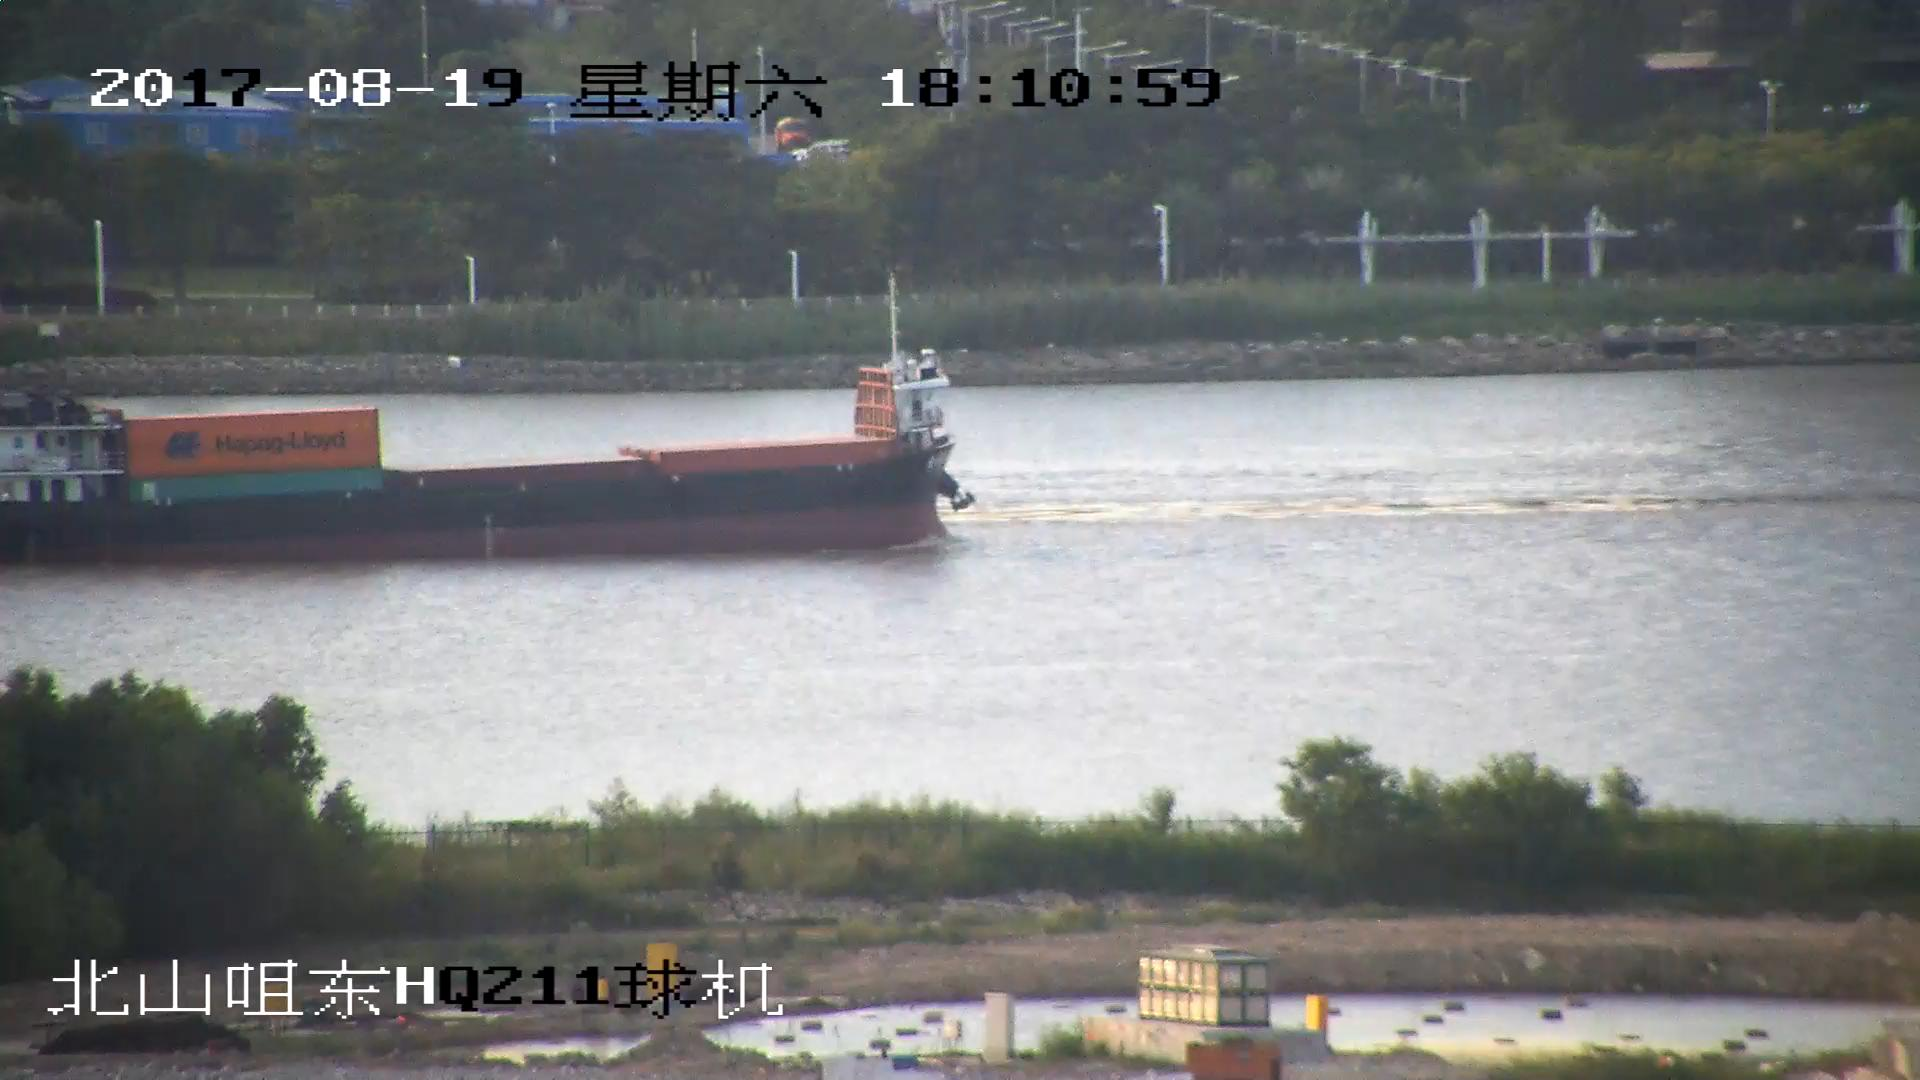container ship: (1, 278, 963, 574)
